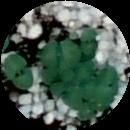Basil: (5, 55, 33, 89), (66, 87, 105, 111), (42, 41, 79, 65), (63, 60, 99, 84), (42, 68, 71, 95), (97, 68, 118, 101), (82, 30, 97, 54)
